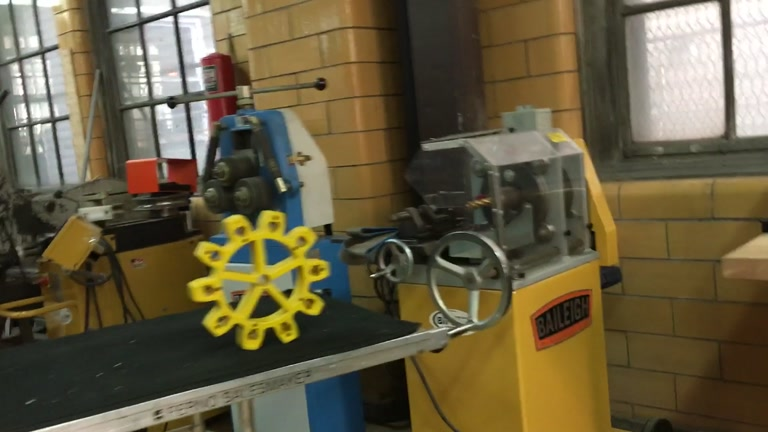gear: (185, 210, 332, 352)
